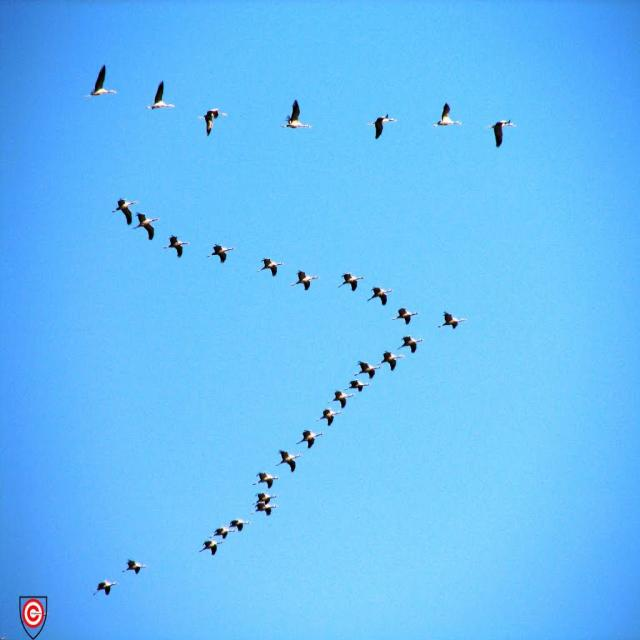bird: (87, 64, 117, 98), (147, 77, 177, 111), (283, 102, 313, 132), (486, 120, 514, 149), (200, 110, 227, 140), (111, 197, 138, 226), (136, 214, 160, 243), (436, 104, 462, 130), (162, 236, 190, 260), (295, 428, 324, 451), (368, 284, 394, 308), (395, 335, 423, 357), (326, 390, 356, 410), (370, 116, 394, 141), (294, 270, 320, 293), (340, 273, 366, 295), (392, 306, 416, 329), (377, 350, 403, 371), (208, 243, 232, 265), (354, 361, 381, 379), (200, 536, 222, 558), (278, 451, 299, 474), (260, 258, 283, 278), (94, 580, 118, 599), (441, 311, 463, 331), (344, 378, 371, 394), (317, 410, 342, 427), (257, 472, 278, 491), (125, 560, 146, 578), (254, 502, 278, 517), (228, 518, 250, 534), (252, 490, 278, 503), (214, 525, 232, 539)
